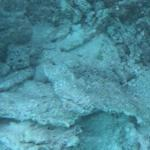dead: (9, 7, 143, 148)
